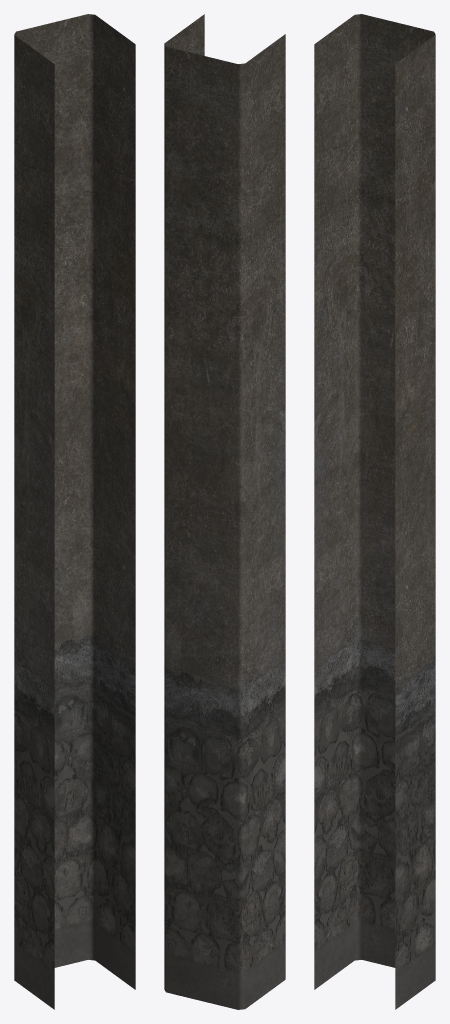
The model's file is Basement_Corridor_F_Pillar_B.glb.
3 renders of one model, left to right at view 1: azimuth 30°, elevation 25°; view 2: azimuth 150°, elevation 25°; view 3: azimuth 330°, elevation 25°, orthographic.
Parts seen in each view (by area): view 1: Basement_Corridor_F_Pillar_B; view 2: Basement_Corridor_F_Pillar_B; view 3: Basement_Corridor_F_Pillar_B.
Part boxes in pixels (x1,y1,x2,y2): Basement_Corridor_F_Pillar_B: (14,14,135,1009); Basement_Corridor_F_Pillar_B: (164,14,285,1009); Basement_Corridor_F_Pillar_B: (314,14,435,1009).
Size of the model in its own units: 0.3589 by 4 by 0.3299.
Materials: 1 (1 with a texture image).
